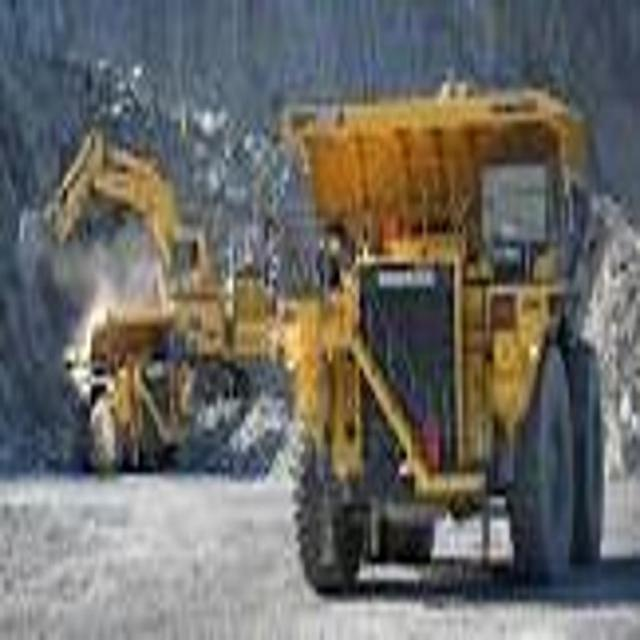dump_truck: (300, 57, 614, 589)
